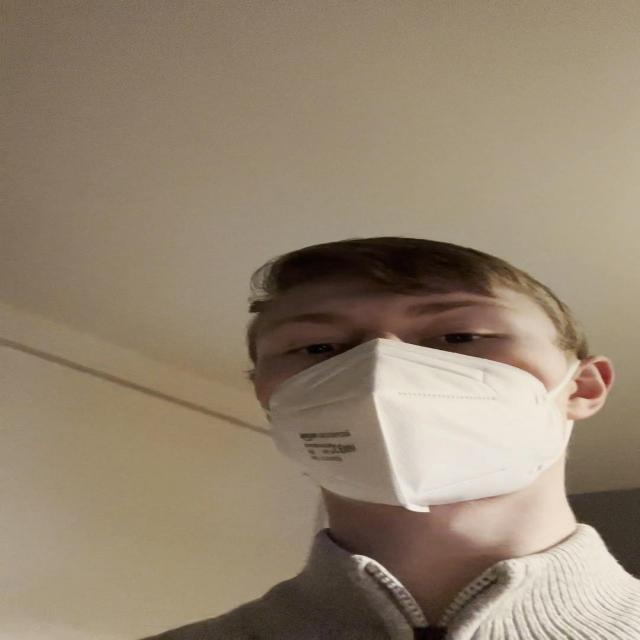no hat: (242, 267, 567, 512)
